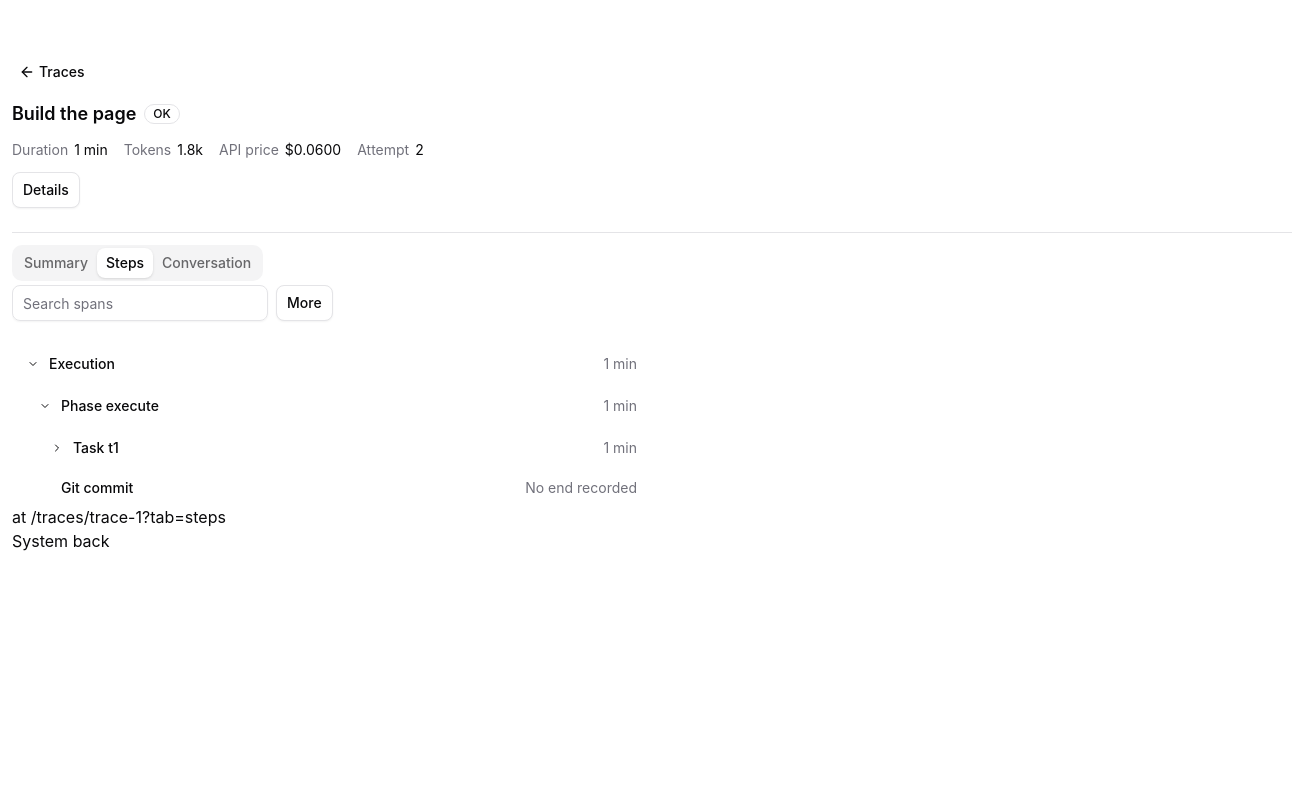
Scenario: TraceScreen span detail › keeps the tree mounted and hidden under the stacked level
Expected: the element named "Spans" is shown, [12,345,646,505]
Click the list item "Task t1 1 min".
click(96, 448)  # box [73,439,637,456]
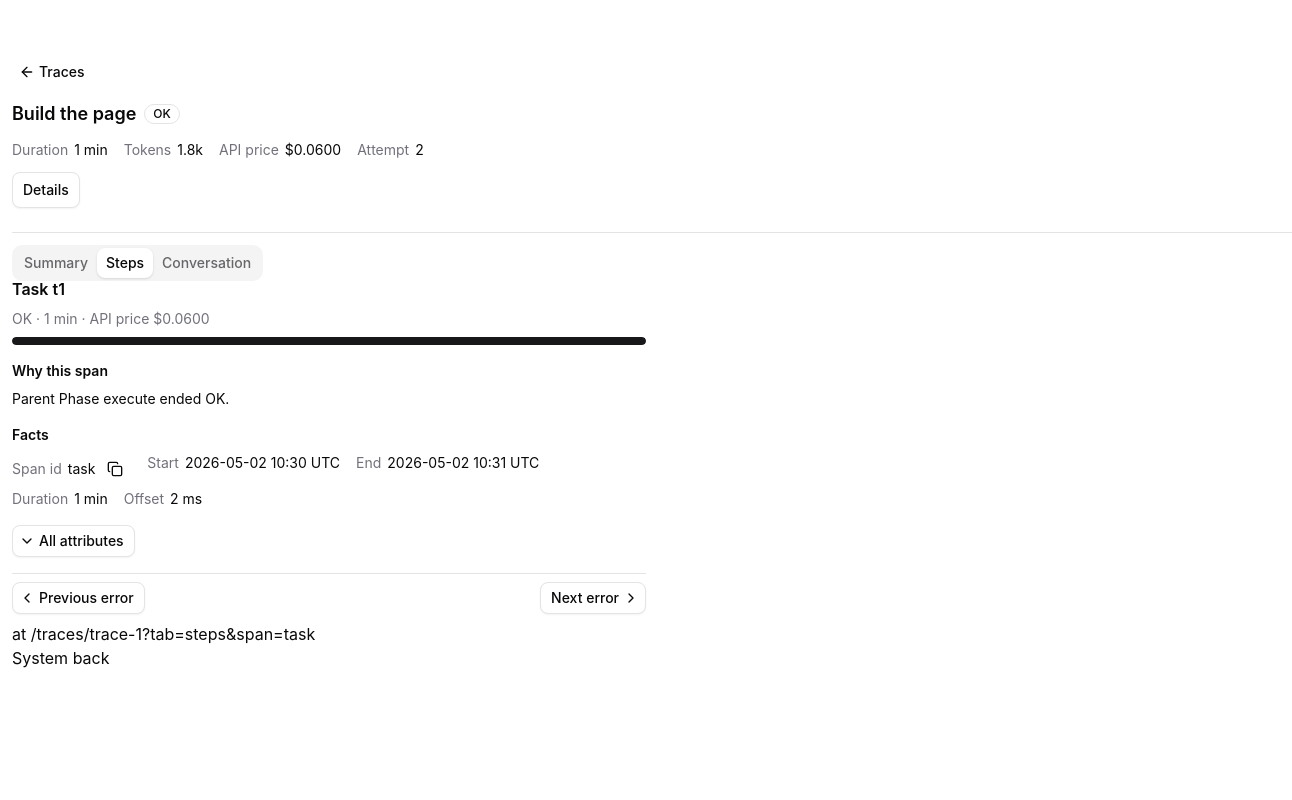
Expected: the button "Back to steps" is shown, [12,237,140,269]
Now the field labelled "Spans" is gone
